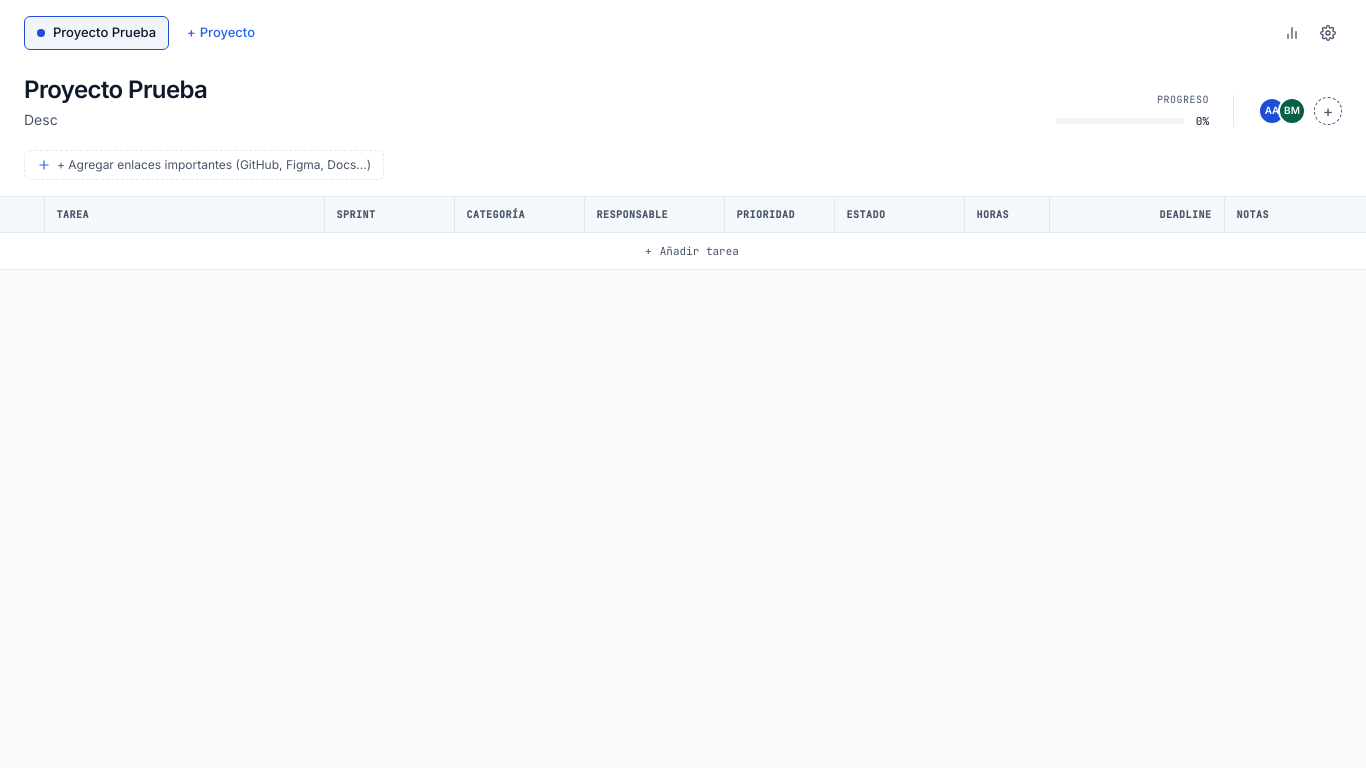
ScrumView — RBAC integrado (Admin vs Miembro) › muestra controles de Admin cuando el usuario es Admin
expect the text "+ Agregar enlaces importantes (GitHub, Figma, Docs...)" is shown: met, box left=57, top=156, right=371, bottom=172
What coordinates should you click on to do the following:
click the button titled "Invitar al equipo"
I would click on:
 (1328, 111)
Its box is left=1314, top=97, right=1342, bottom=125.
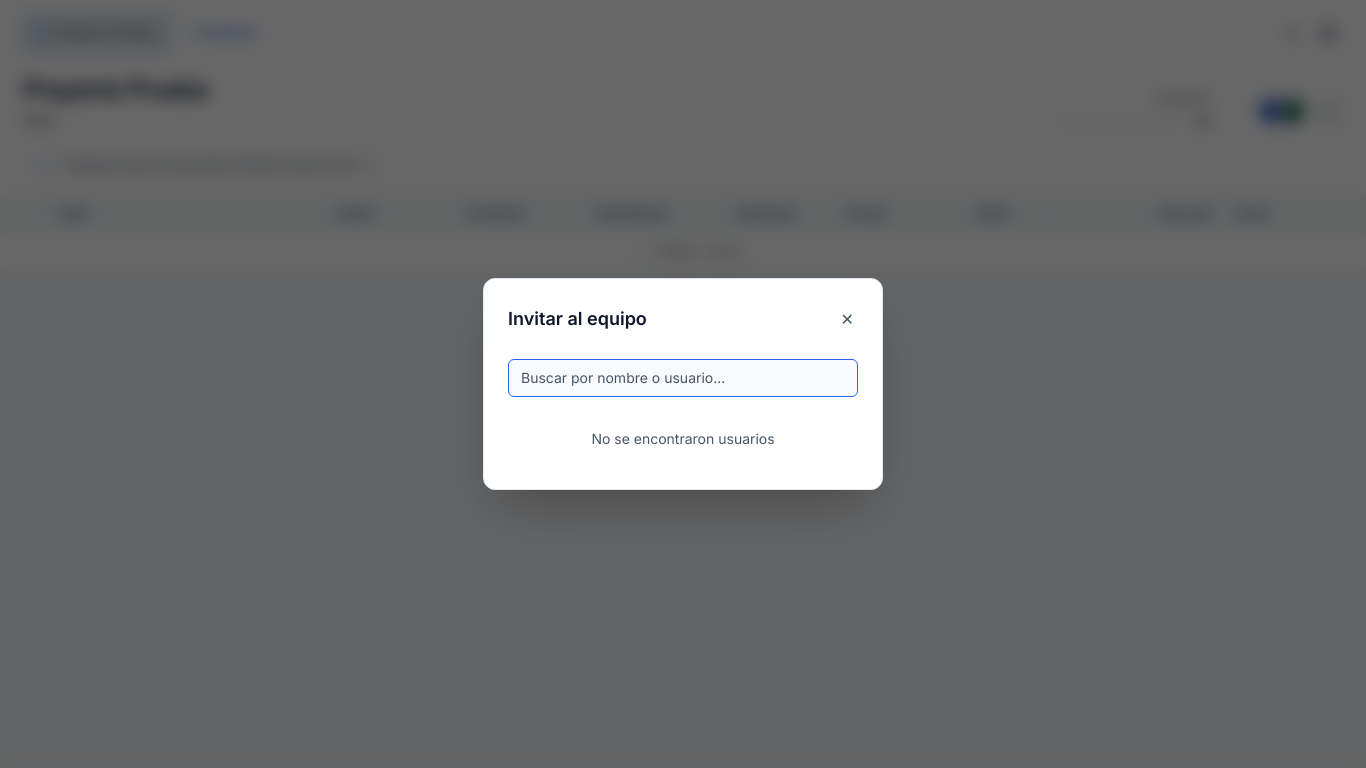
expect the heading "Invitar al equipo" is shown: met, box left=508, top=305, right=647, bottom=333
